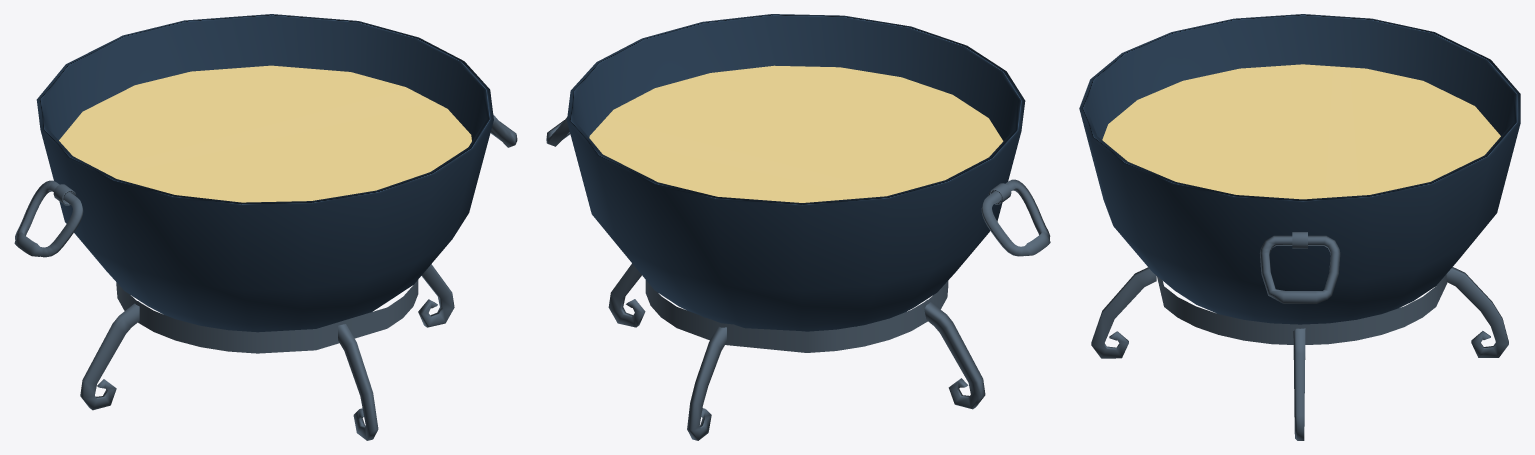
File: kadhai_solo.glb
3 views of the same model, side by side, from view 1: azimuth 30°, elevation 25°; view 2: azimuth 150°, elevation 25°; view 3: azimuth 270°, elevation 25° (orthographic). The views are drawn at different scales.
Visible parts, largest first — view 1: kadhai:Standlegs_low1; view 2: kadhai:Standlegs_low1; view 3: kadhai:Standlegs_low1.
Boxes of the visible parts, x1,y1,x2,y2 form: kadhai:Standlegs_low1: (14, 14, 517, 440); kadhai:Standlegs_low1: (546, 14, 1050, 440); kadhai:Standlegs_low1: (1079, 14, 1520, 440).
Size of the model in its own units: 0.1204 by 0.0603 by 0.0971.
Materials: 1 (1 with a texture image).
